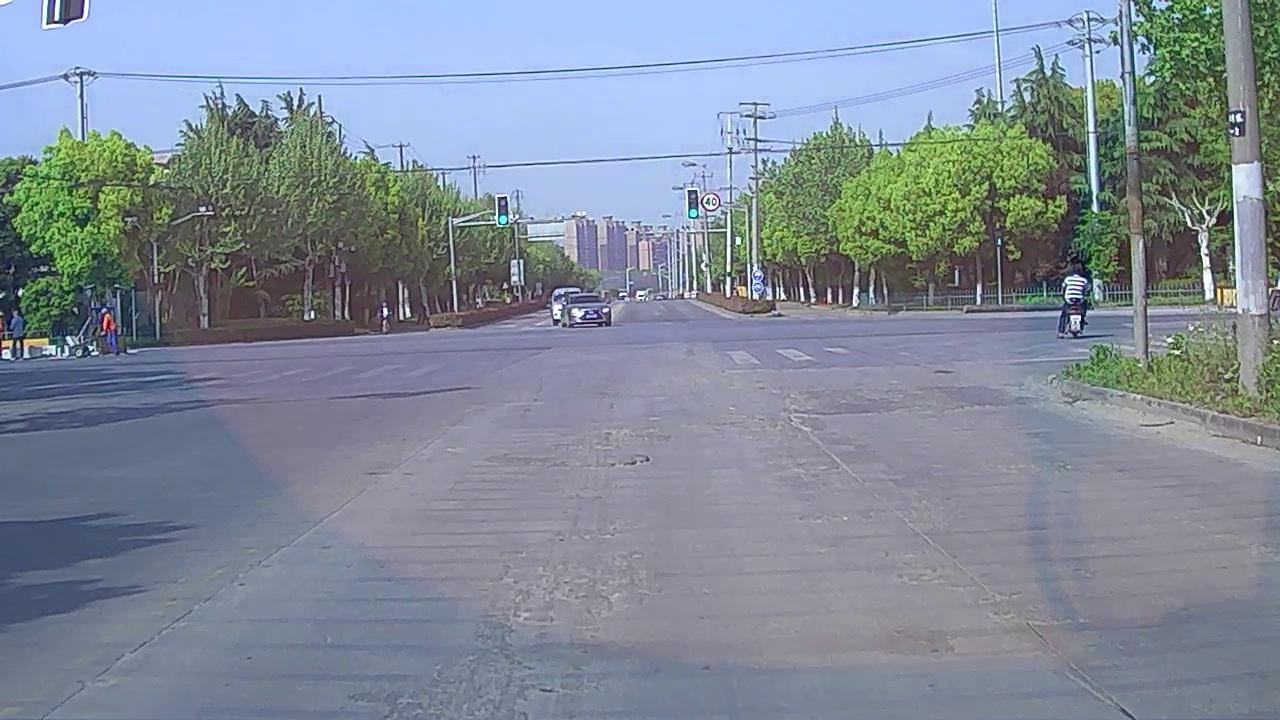traffic_light: (497, 196, 509, 225), (688, 189, 697, 217)
